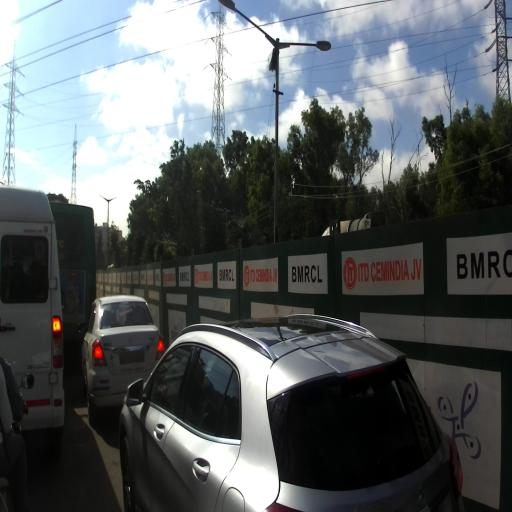street_light_0: (219, 0, 279, 52), (274, 39, 332, 52), (100, 195, 110, 203), (108, 197, 117, 204)
